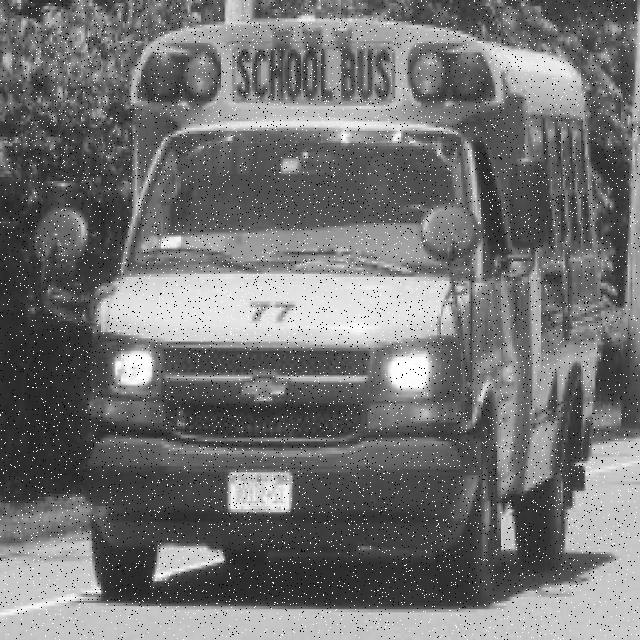Bus- Small: (32, 19, 602, 608)
